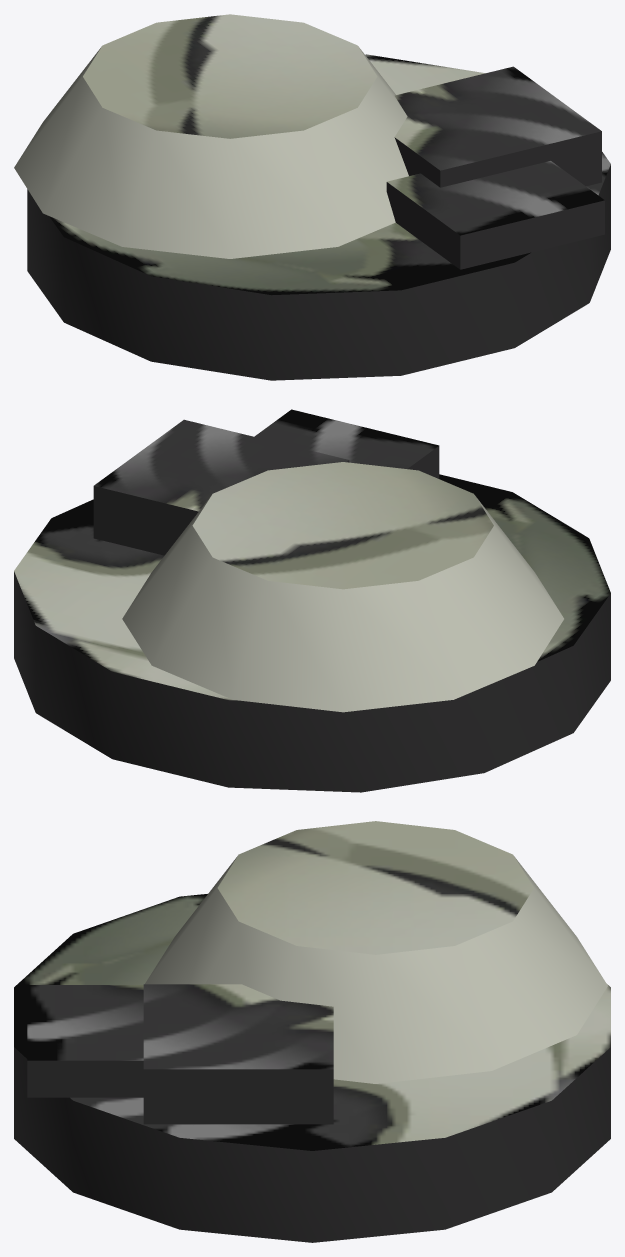
Rendered from Building_ShipChunk_Mech.obj.
3 views of the same model, one above another, from view 1: azimuth 30°, elevation 25°; view 2: azimuth 150°, elevation 25°; view 3: azimuth 270°, elevation 25° (orthographic). The views are drawn at different scales.
Visible parts, largest first — view 1: Body; view 2: Body; view 3: Body.
Part boxes in pixels (x1=…): Body: x1=14, y1=14, x2=610, y2=380; Body: x1=14, y1=409, x2=610, y2=792; Body: x1=14, y1=821, x2=610, y2=1242.
Size of the model in its own units: 1.88 by 0.62 by 1.77.
1 material, 1 textured.
